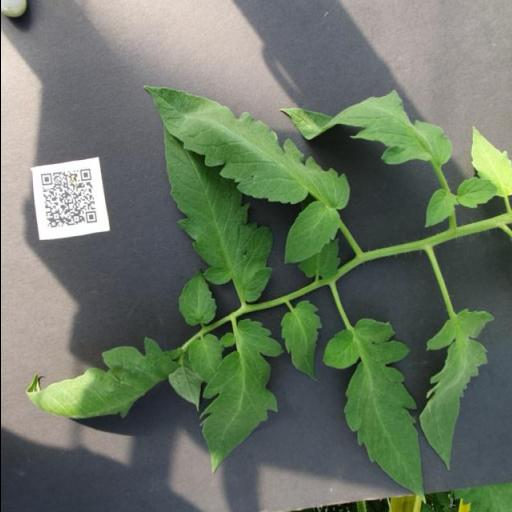Healthy: (140, 83, 356, 265), (162, 120, 272, 312), (316, 317, 424, 504), (279, 90, 452, 170), (417, 309, 496, 471), (200, 320, 282, 476), (279, 301, 324, 382), (178, 266, 218, 326), (454, 176, 498, 210), (422, 186, 454, 228)
